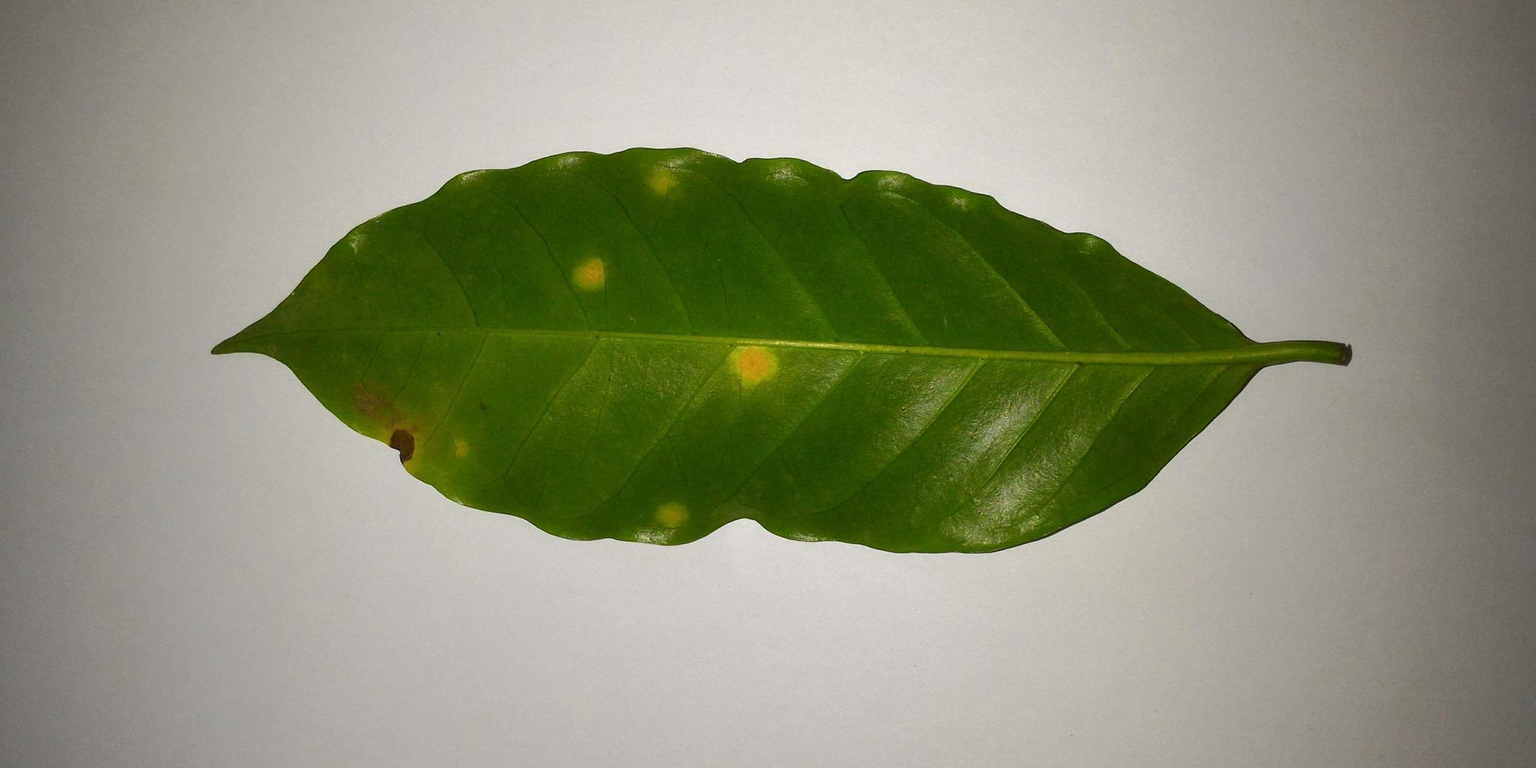Rust: (709, 336, 794, 394), (554, 238, 616, 310)
